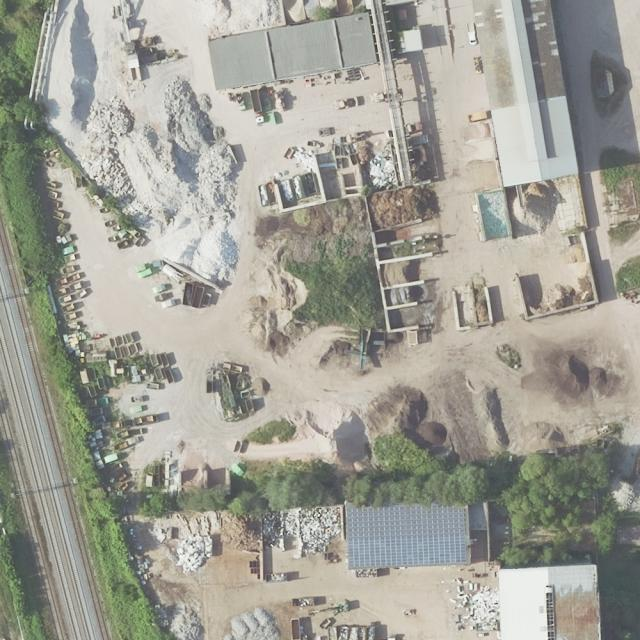PV: (345, 504, 467, 568)
